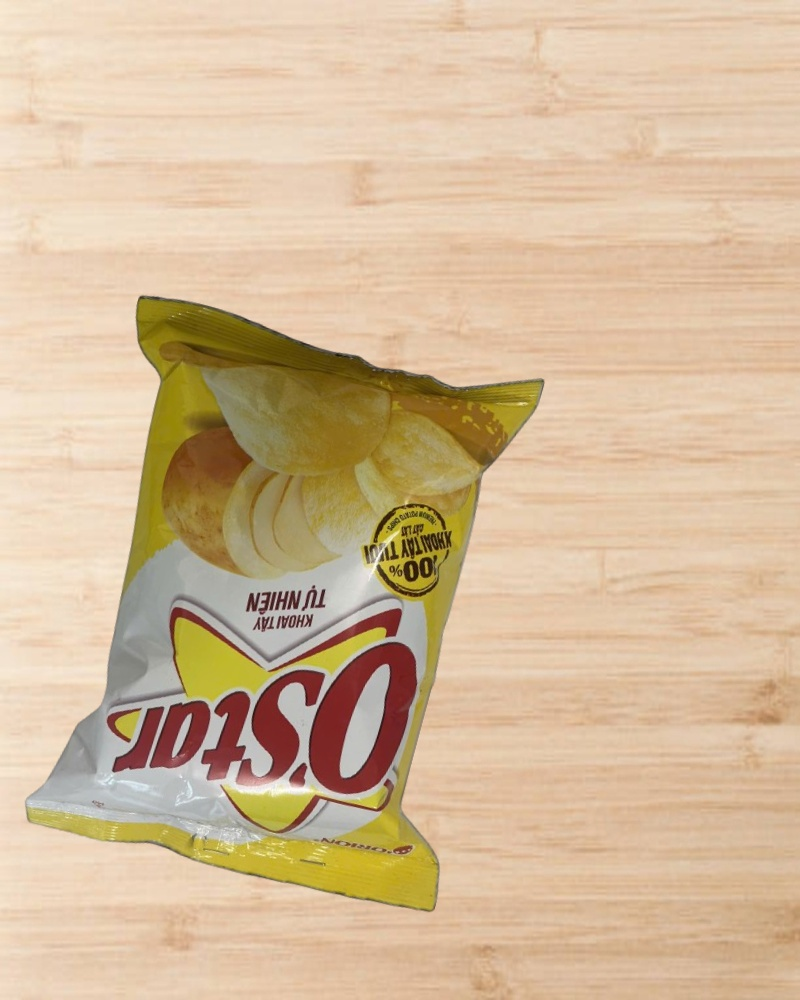Snack cua: (7, 281, 570, 923)
